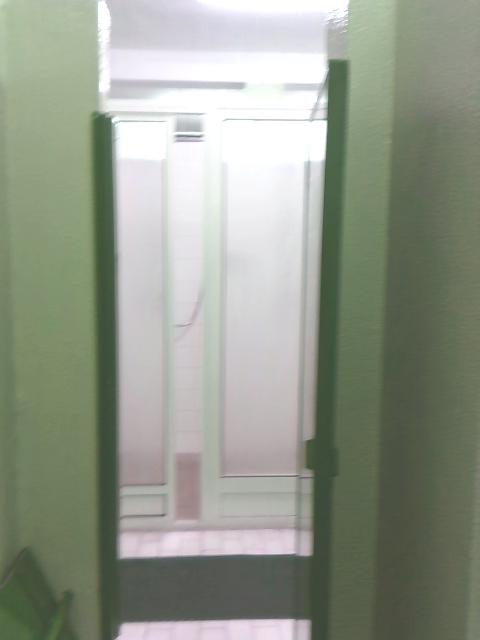open_door: (93, 58, 350, 639)
